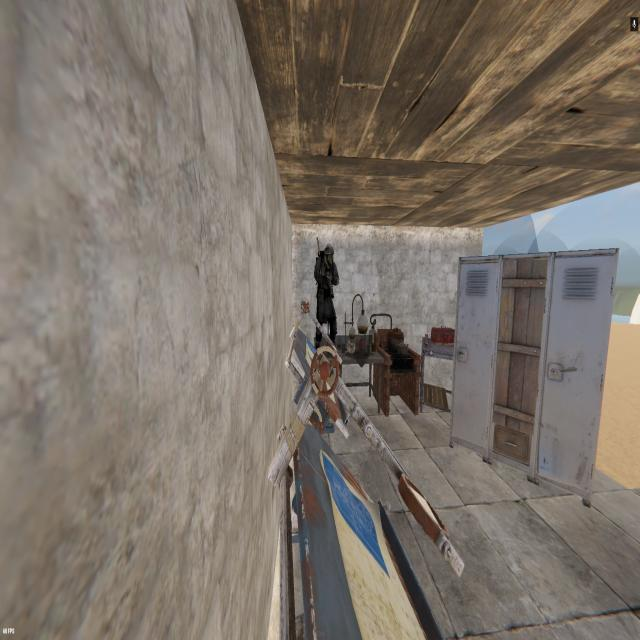Player: (313, 239, 340, 359)
